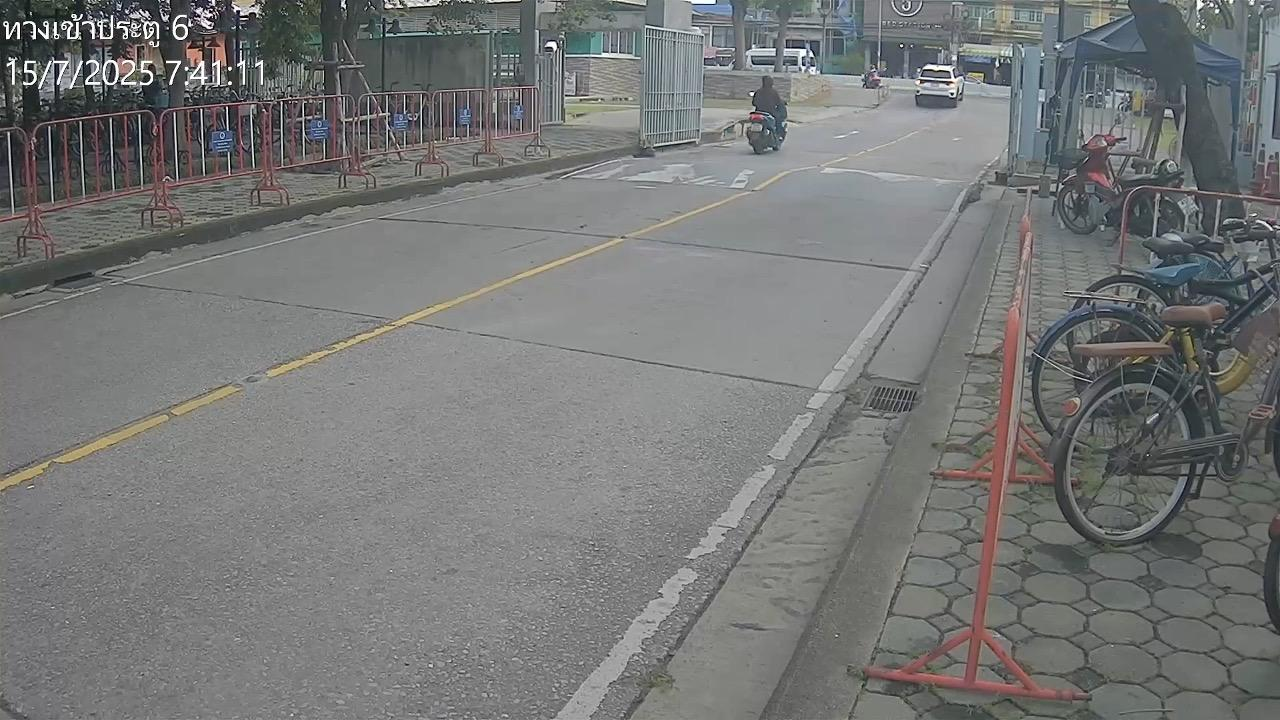With-Helmet: (762, 75, 774, 88)
